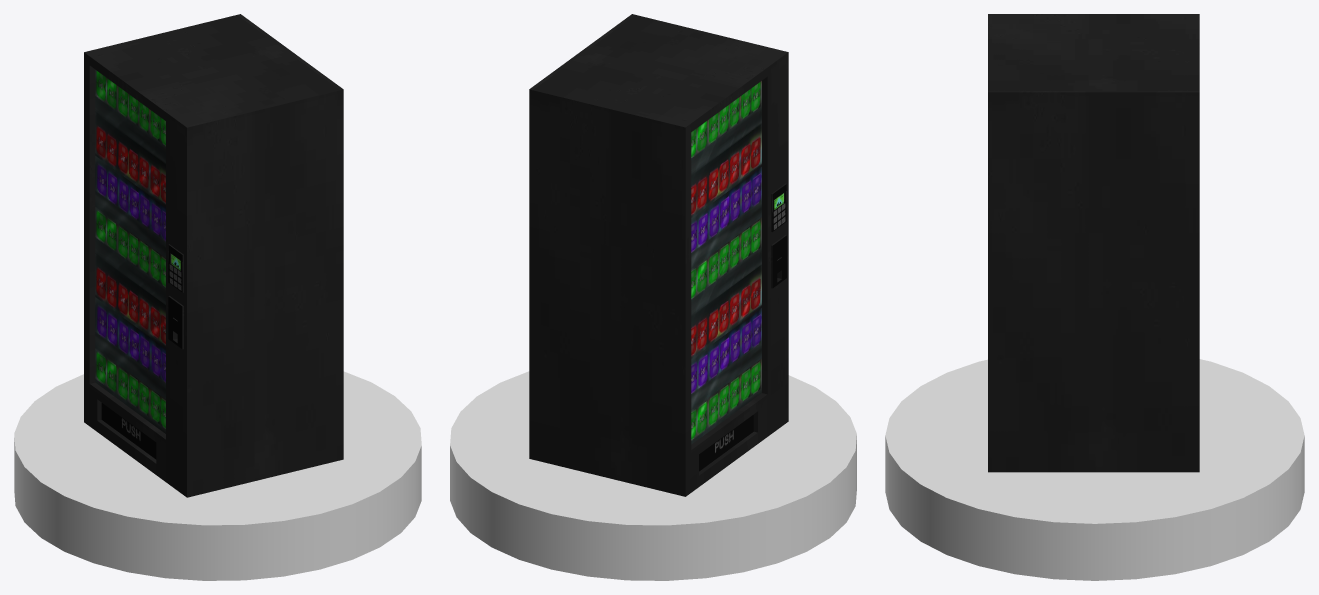
The model's file is boke_vending_machine-opt.glb.
3 renders of one model, left to right at view 1: azimuth 30°, elevation 25°; view 2: azimuth 150°, elevation 25°; view 3: azimuth 270°, elevation 25°, orthographic. The views are drawn at different scales.
Parts seen in each view (by area): view 1: vending machine2_2, Object_9; view 2: vending machine2_2, Object_9; view 3: vending machine2_2, Object_9.
Part boxes in pixels (left/top/right/bottom): vending machine2_2: left=84, top=14, right=343, bottom=497; Object_9: left=14, top=371, right=421, bottom=580; vending machine2_2: left=529, top=14, right=788, bottom=496; Object_9: left=450, top=371, right=856, bottom=580; vending machine2_2: left=988, top=14, right=1199, bottom=472; Object_9: left=885, top=359, right=1304, bottom=580.
Bounding box in the file's own units: 13 × 14.95 × 13.
5 materials, 4 textured.
